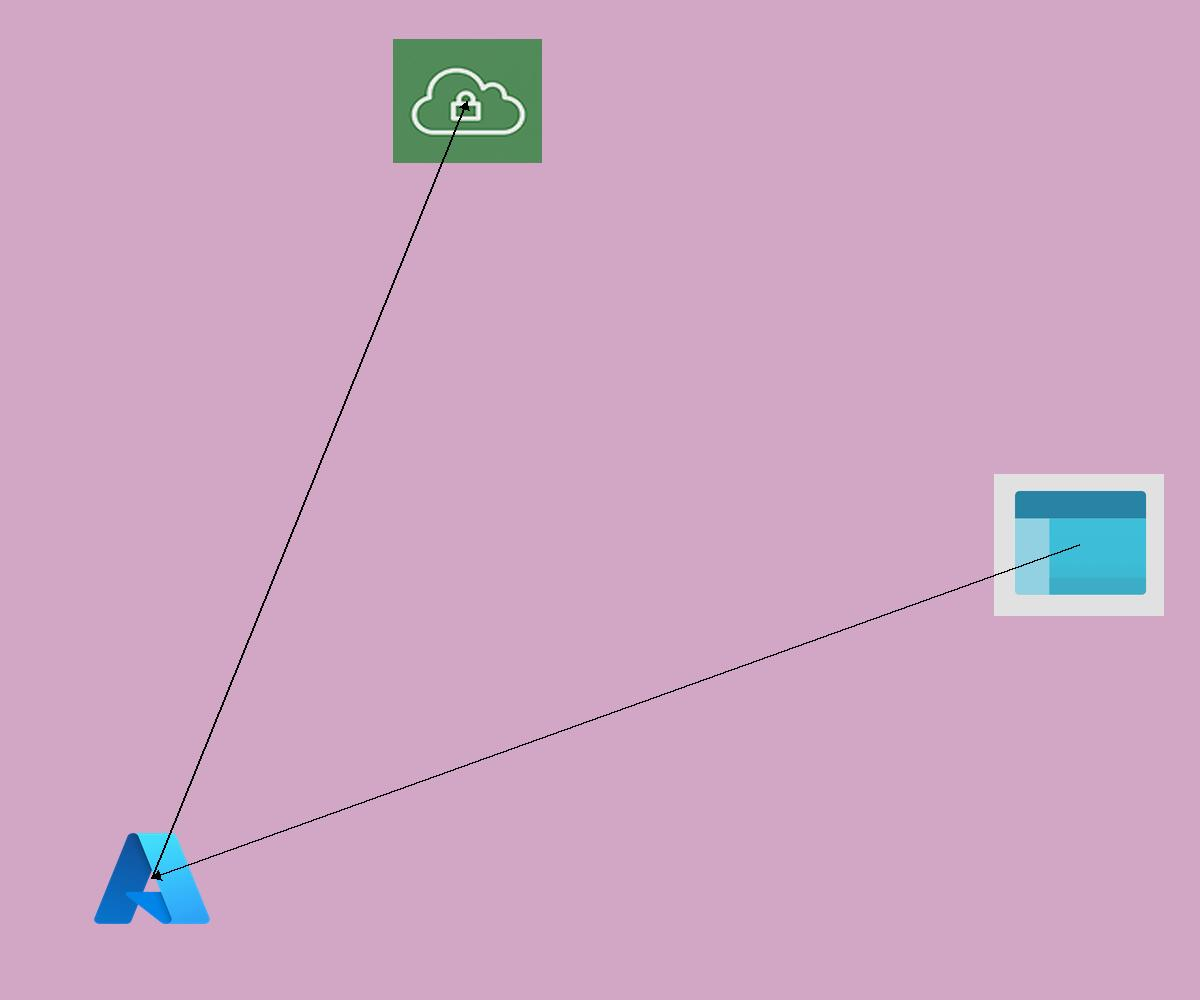AWS-Private_vpc: (393, 39, 542, 163)
Azure_management-portal: (994, 474, 1164, 616)
Azure_services: (89, 826, 215, 931)
